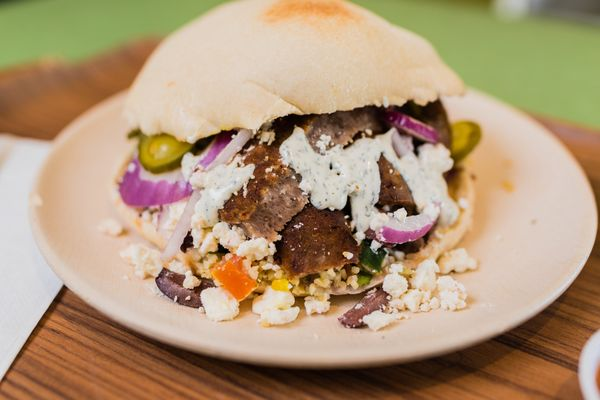soup: (111, 0, 484, 318)
